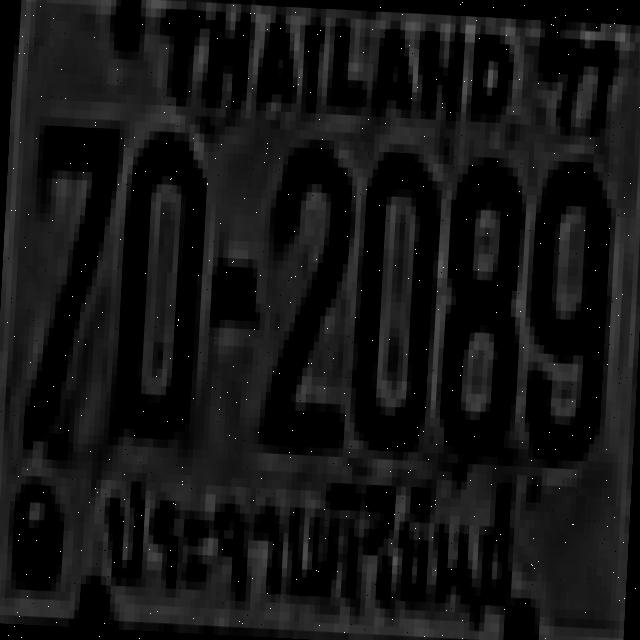0: (109, 121, 205, 432), (349, 143, 439, 444)
2: (262, 138, 352, 440)
7: (22, 117, 118, 436)
8: (434, 151, 524, 453)
9: (522, 152, 612, 454)
PrachuapKhiriKhan: (85, 452, 528, 635)
